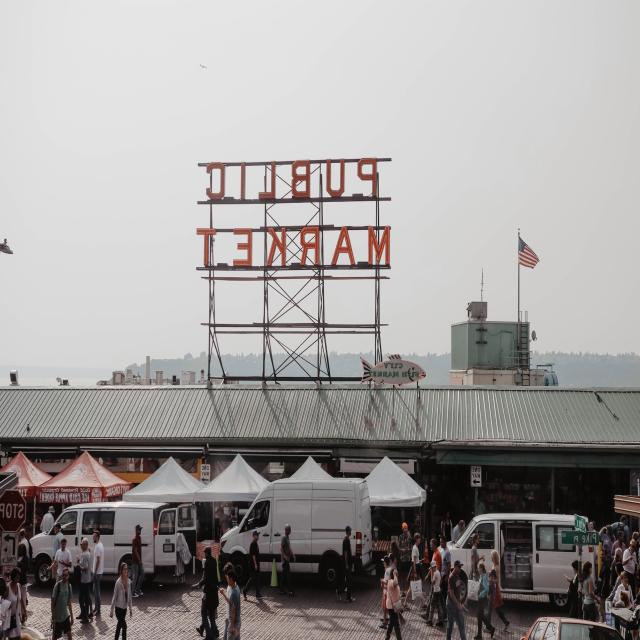adult: (192, 542, 219, 640), (485, 550, 510, 634), (49, 567, 77, 640), (0, 566, 27, 640), (473, 553, 495, 640), (419, 540, 442, 621), (462, 534, 486, 611), (241, 527, 265, 603), (382, 567, 406, 640), (443, 561, 465, 640), (404, 530, 423, 617), (335, 526, 356, 603), (90, 528, 106, 618), (425, 559, 445, 629), (580, 558, 602, 621), (130, 520, 146, 605), (76, 540, 92, 623), (280, 524, 296, 596), (622, 535, 637, 602), (596, 548, 610, 618), (378, 554, 391, 627), (613, 571, 633, 606), (398, 523, 411, 575), (440, 536, 450, 600), (567, 559, 578, 617)
